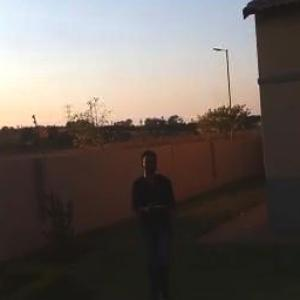follow: (129, 142, 184, 299)
